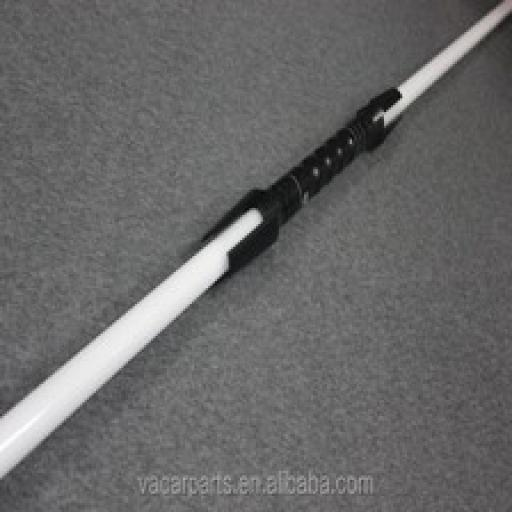lightsaber: (0, 0, 510, 480)
